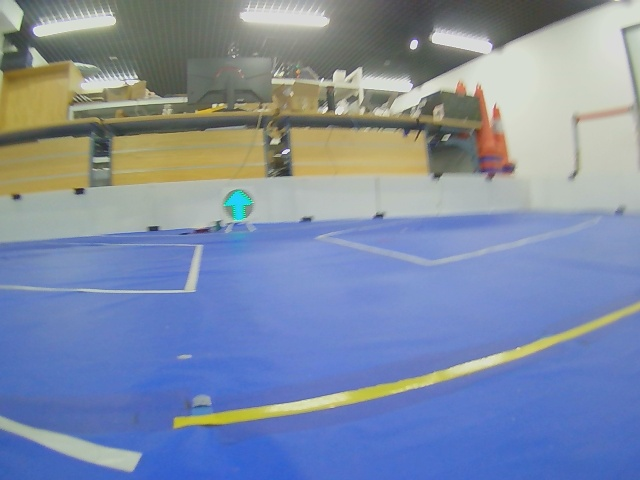straight_green: (223, 189, 254, 222)
